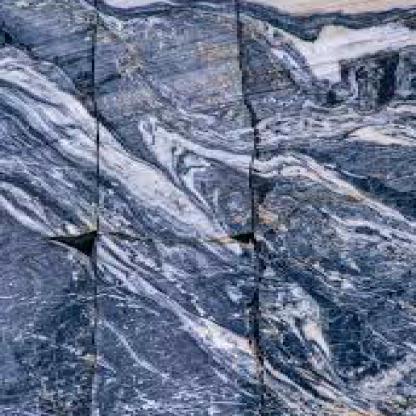Metamorphic_Marble: (2, 0, 416, 415)
